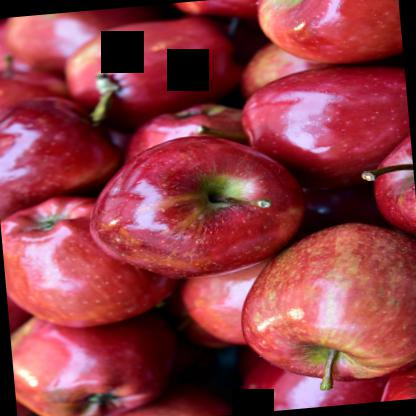apple: (76, 125, 315, 281), (229, 210, 415, 387), (0, 190, 185, 334), (239, 63, 414, 198), (55, 11, 235, 130), (9, 310, 185, 415), (0, 91, 116, 214), (228, 0, 404, 74), (234, 347, 396, 413), (358, 118, 415, 241), (165, 0, 284, 21)
